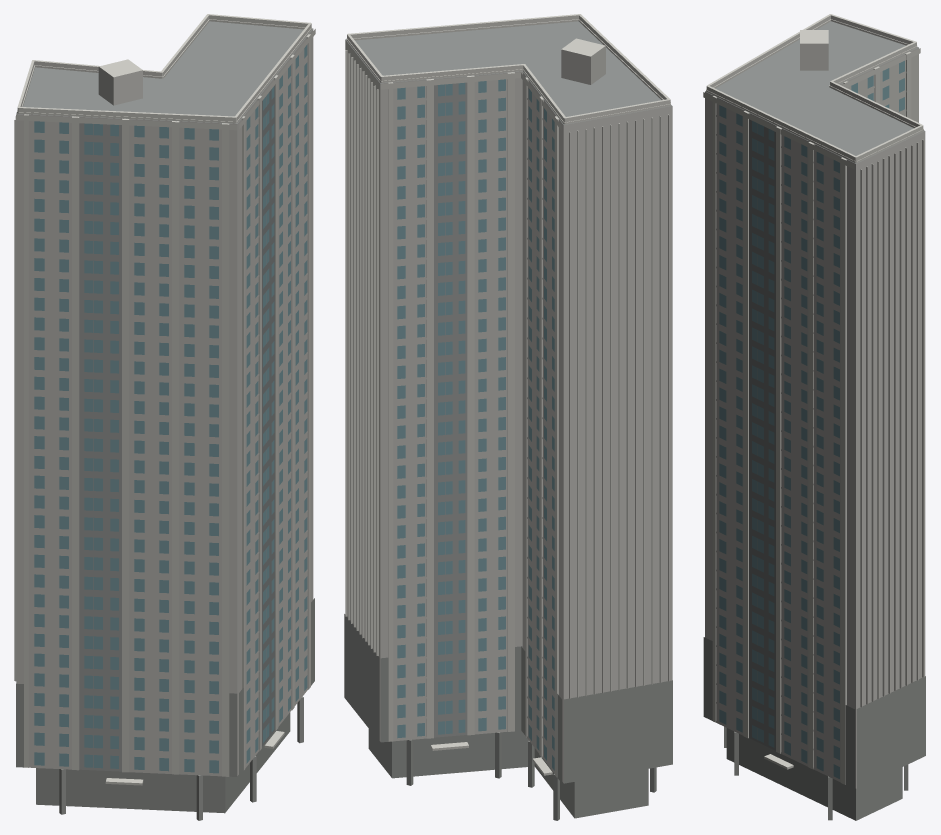
Rendered from maple-xi-102.glb.
3 renders of one model, left to right at view 1: azimuth 30°, elevation 25°; view 2: azimuth 150°, elevation 25°; view 3: azimuth 270°, elevation 25°, orthographic. The views are drawn at different scales.
Parts seen in each view (by area): view 1: maple-xi-102; view 2: maple-xi-102; view 3: maple-xi-102.
Part boxes in pixels (box(x1,y1,x2,y2)): maple-xi-102: box(14, 14, 315, 820); maple-xi-102: box(344, 14, 672, 820); maple-xi-102: box(703, 14, 925, 820).
Size of the model in its own units: 51.05 by 113 by 32.96.
